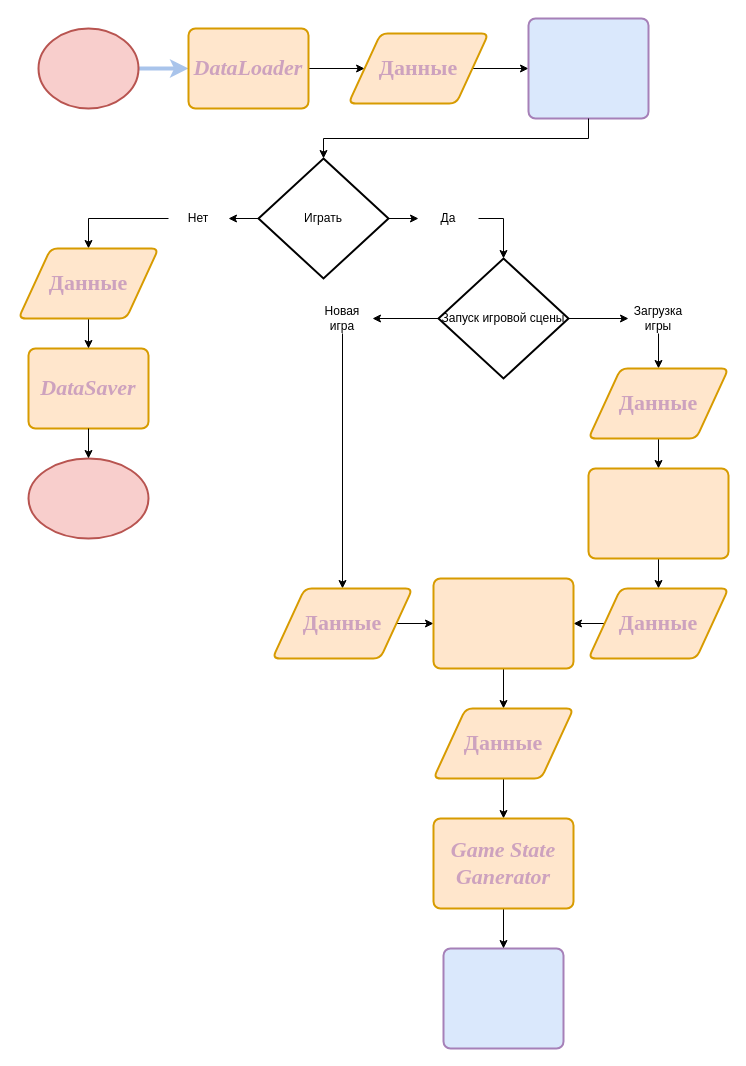
This 746x1066 diagram has some shape labels left out. The shapes that lost their labels are listed below. From the top down, each one's centre as x and y in pixels, then its label:
pixel 88 68: Запуск игры
pixel 588 68: Начальная сцена
pixel 88 498: Выход из игры
pixel 658 513: Game States Panel Displayer
pixel 503 623: Data Container
pixel 503 998: Игровая сцена
